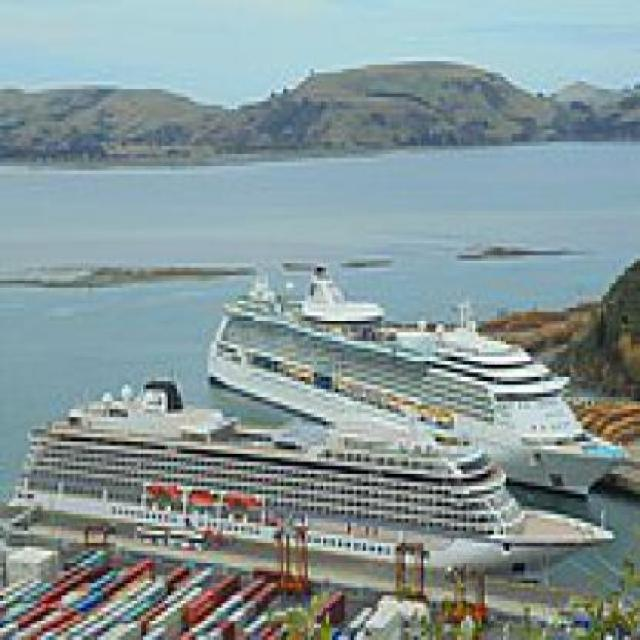cruise: (7, 370, 635, 604), (193, 249, 638, 507)
